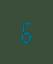six: (19, 19, 31, 44)
